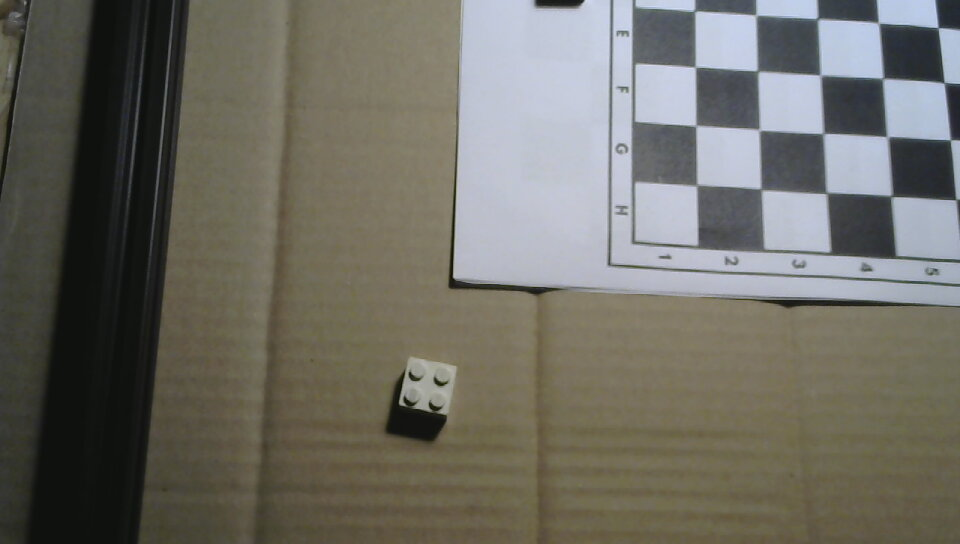wp: (387, 350, 463, 423)
